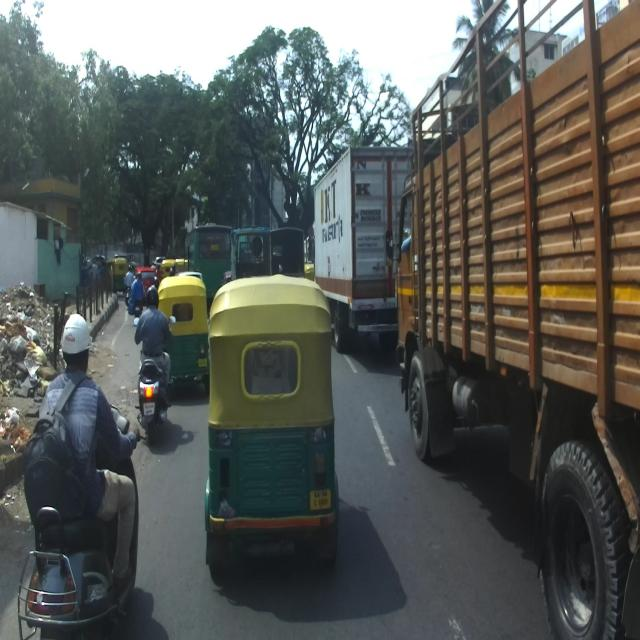autorickshaw: (203, 274, 340, 582), (156, 274, 210, 396)
bus: (184, 223, 232, 317)
scooter: (17, 400, 147, 639), (133, 314, 176, 442)
truck: (385, 0, 639, 639)
